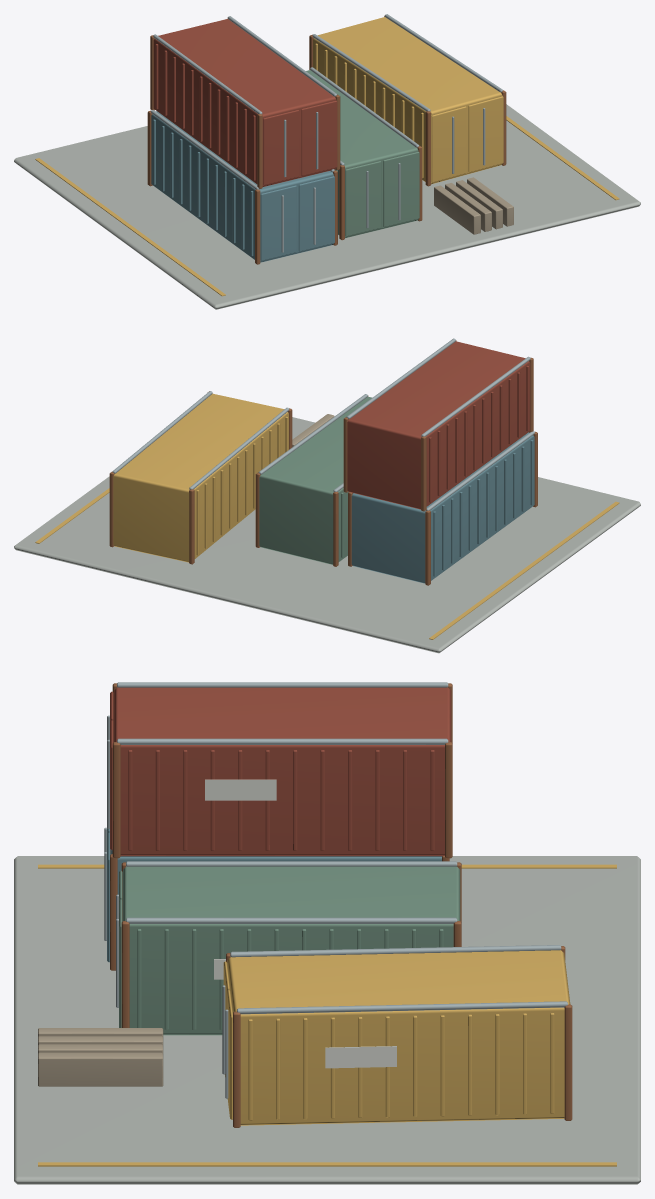
File: PortFreightYard.glb
3 renders of one model, top to bottom at view 1: azimuth 30°, elevation 25°; view 2: azimuth 150°, elevation 25°; view 3: azimuth 270°, elevation 25°, orthographic. The views are drawn at different scales.
Visible parts, largest first — view 1: Freight pad, Upper red freight body, Retired freight body, Blue freight body, Green freight body, Door panel.002, Door panel.003, Door panel.005, Door panel, Door panel.004, Door panel.001, Door panel.007 (+17 smaller); view 2: Freight pad, Upper red freight body, Retired freight body, Blue freight body, Green freight body, Yard safety edge, Roof edge.004, Roof edge, Roof edge.003, Roof edge.005, Roof edge.007, Roof edge.006; view 3: Freight pad, Retired freight body, Upper red freight body, Green freight body, Stored timber.003, Yard safety edge.001, Roof edge.003, Roof edge.005, Roof edge.007, Roof edge.006, Roof edge.002, Roof edge.004 (+13 smaller).
Boxes of the visible parts, x1=… form: Freight pad: x1=14, y1=104, x2=640, y2=309; Upper red freight body: x1=153, y1=19, x2=336, y2=186; Retired freight body: x1=313, y1=17, x2=502, y2=184; Blue freight body: x1=151, y1=111, x2=333, y2=262; Green freight body: x1=306, y1=70, x2=418, y2=238; Door panel.002: x1=345, y1=161, x2=381, y2=236; Door panel.003: x1=383, y1=152, x2=419, y2=227; Door panel.005: x1=301, y1=100, x2=337, y2=175; Door panel: x1=260, y1=185, x2=296, y2=260; Door panel.004: x1=263, y1=110, x2=299, y2=185; Door panel.001: x1=298, y1=176, x2=334, y2=251; Door panel.007: x1=468, y1=96, x2=503, y2=172; Freight pad: x1=14, y1=417, x2=640, y2=653; Upper red freight body: x1=347, y1=341, x2=530, y2=509; Retired freight body: x1=113, y1=393, x2=288, y2=562; Blue freight body: x1=351, y1=432, x2=534, y2=583; Green freight body: x1=259, y1=396, x2=371, y2=564; Yard safety edge: x1=429, y1=501, x2=619, y2=639; Roof edge.004: x1=421, y1=356, x2=530, y2=436; Roof edge: x1=426, y1=431, x2=534, y2=510; Roof edge.003: x1=258, y1=394, x2=367, y2=474; Roof edge.005: x1=346, y1=338, x2=455, y2=418; Roof edge.007: x1=112, y1=391, x2=212, y2=473; Roof edge.006: x1=189, y1=407, x2=289, y2=489; Freight pad: x1=14, y1=856, x2=640, y2=1184; Retired freight body: x1=227, y1=950, x2=570, y2=1125; Upper red freight body: x1=114, y1=687, x2=451, y2=855; Green freight body: x1=123, y1=866, x2=460, y2=1035; Stored timber.003: x1=38, y1=1052, x2=163, y2=1086; Yard safety edge.001: x1=38, y1=1162, x2=616, y2=1166; Roof edge.003: x1=126, y1=917, x2=457, y2=923; Roof edge.005: x1=117, y1=738, x2=448, y2=744; Roof edge.007: x1=237, y1=1001, x2=567, y2=1014; Roof edge.006: x1=230, y1=945, x2=561, y2=957; Roof edge.002: x1=126, y1=861, x2=457, y2=866; Roof edge.004: x1=117, y1=682, x2=448, y2=687.
Bounding box in the file's own units: 12.8 × 4.45 × 10.5.
